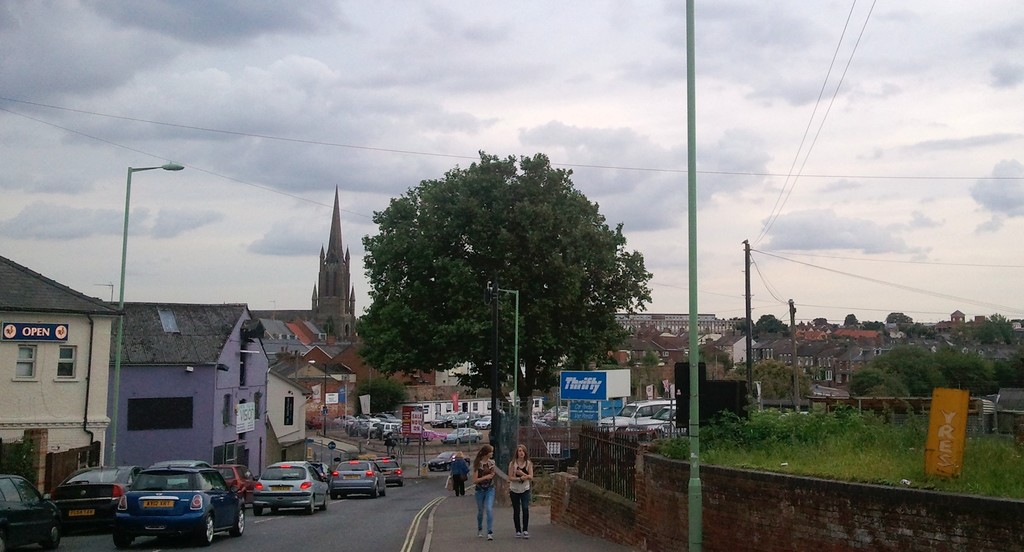car: (107, 454, 250, 547), (41, 454, 152, 529), (1, 468, 66, 544), (258, 450, 333, 515), (325, 452, 392, 500), (203, 458, 259, 507), (372, 444, 415, 488), (426, 446, 465, 478)
